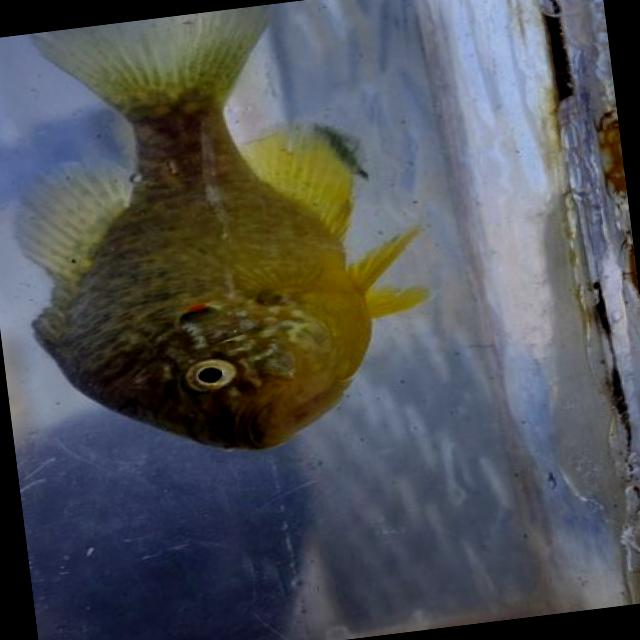Gunes Levregi: (0, 0, 474, 486)
